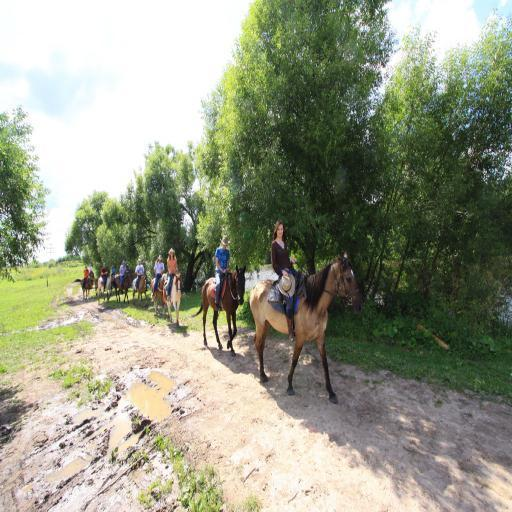horse: (250, 249, 364, 404), (192, 262, 246, 356), (163, 272, 183, 326), (151, 273, 169, 316), (74, 270, 95, 300), (132, 274, 148, 307), (114, 272, 130, 304), (97, 273, 115, 301)
